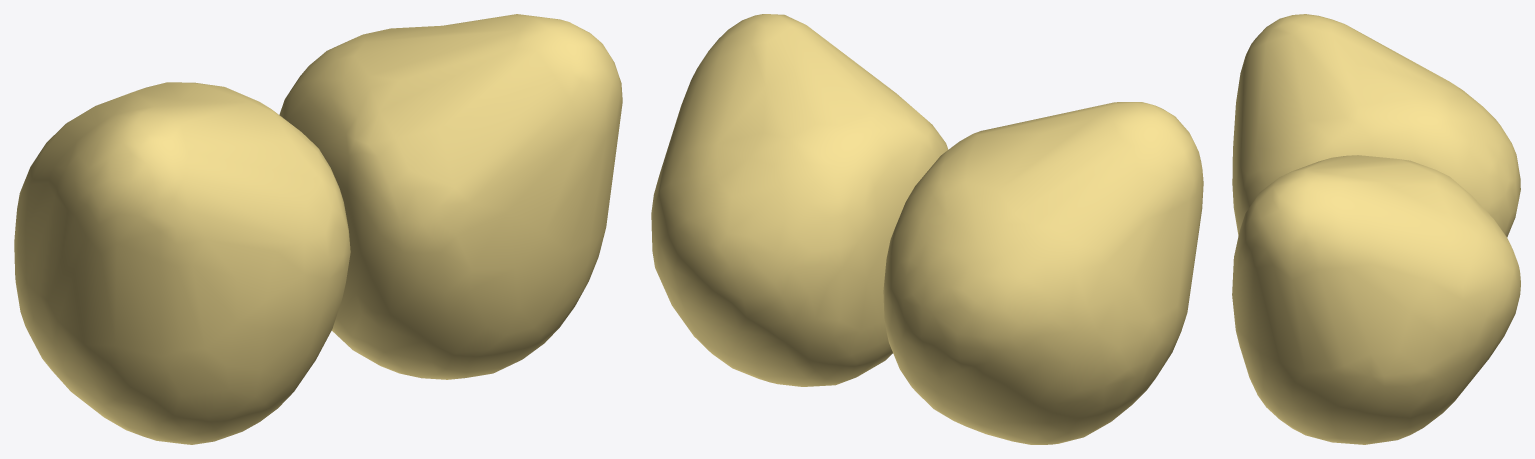
The model's file is fma74877.glb.
3 renders of one model, left to right at view 1: azimuth 30°, elevation 25°; view 2: azimuth 150°, elevation 25°; view 3: azimuth 270°, elevation 25°, orthographic. The views are drawn at different scales.
Parts seen in each view (by area): view 1: FMA74877; view 2: FMA74877; view 3: FMA74877.
Boxes of the visible parts, box(x1,y1,x2,y2) form: FMA74877: box(14, 14, 622, 444); FMA74877: box(651, 14, 1203, 444); FMA74877: box(1232, 14, 1520, 444).
Size of the model in its own units: 0.00782 by 0.00479 by 0.00441.
